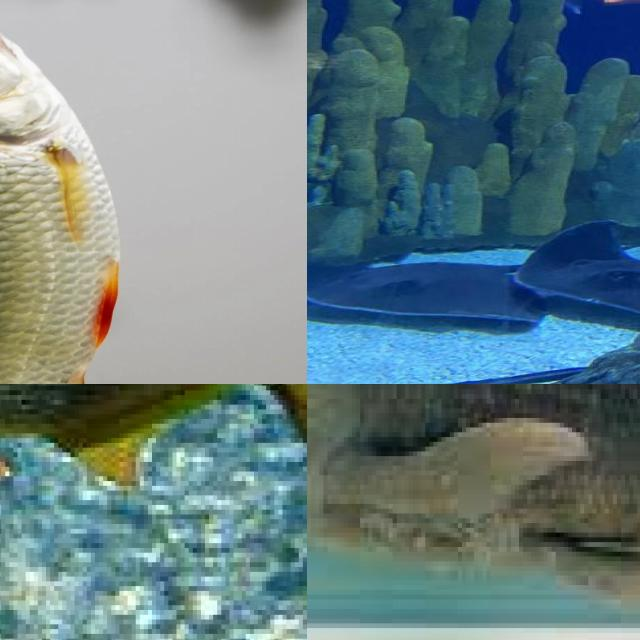fish: (0, 0, 307, 384), (0, 384, 307, 640), (307, 384, 640, 580), (372, 0, 616, 17)
